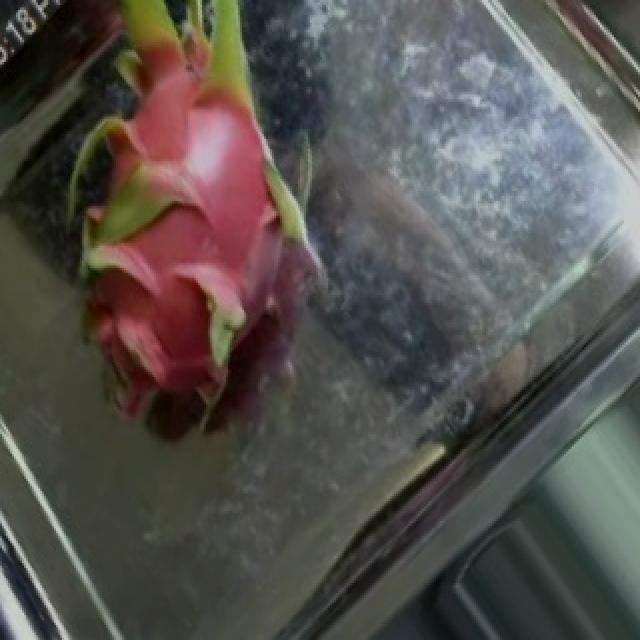fruit: (0, 5, 398, 469)
